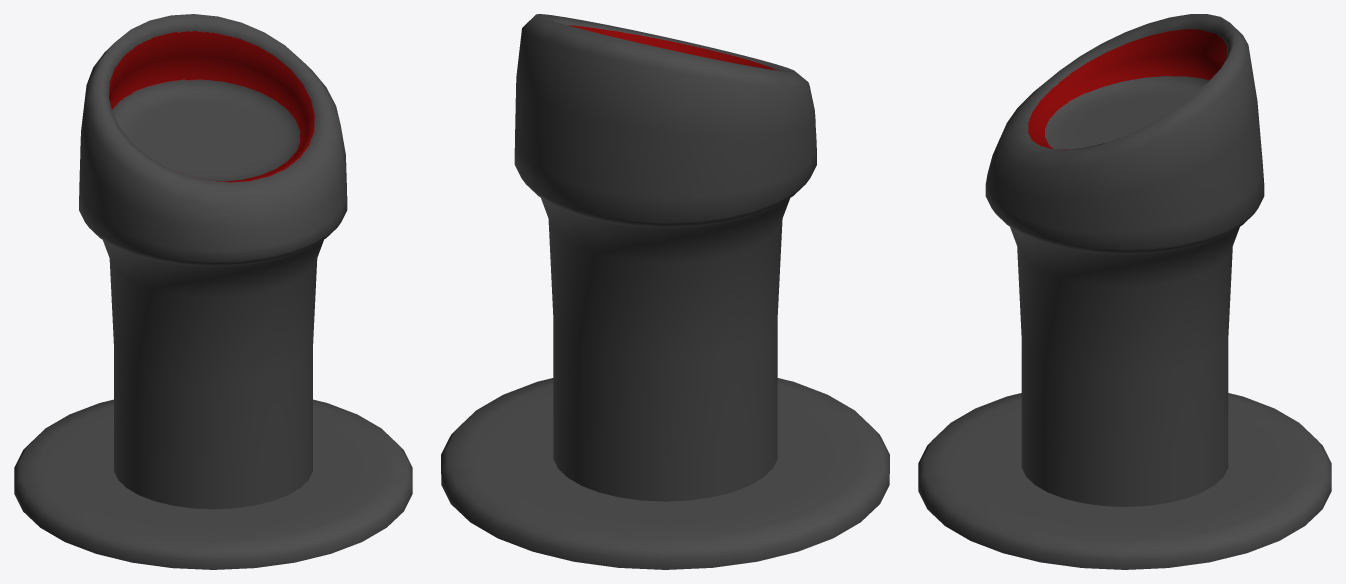
The model's file is pedastal.fbx.
3 renders of one model, left to right at view 1: azimuth 30°, elevation 25°; view 2: azimuth 150°, elevation 25°; view 3: azimuth 270°, elevation 25°, orthographic. The views are drawn at different scales.
Visible parts, largest first — view 1: Disc; view 2: Disc; view 3: Disc.
Part boxes in pixels (left/top/right/bottom): Disc: left=14, top=14, right=412, bottom=569; Disc: left=441, top=14, right=889, bottom=569; Disc: left=918, top=14, right=1331, bottom=569.
Size of the model in its own units: 196 by 231 by 195.
1 material, 1 textured.
